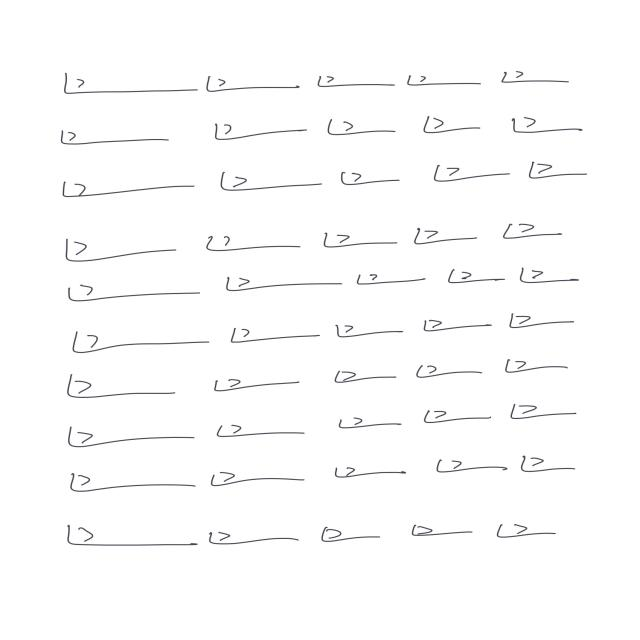Command: (53, 60, 196, 107), (64, 318, 208, 361), (48, 516, 198, 553), (36, 170, 200, 202), (58, 367, 190, 405), (42, 118, 180, 153), (62, 274, 202, 308), (47, 228, 180, 262), (221, 312, 325, 352), (190, 223, 304, 257), (206, 164, 331, 195), (61, 466, 198, 493), (52, 424, 198, 448), (203, 520, 305, 554), (203, 70, 309, 102), (212, 268, 333, 296), (203, 114, 308, 146), (406, 211, 491, 250), (213, 414, 307, 446), (426, 444, 512, 478), (313, 222, 404, 254), (410, 102, 489, 138), (201, 464, 305, 491), (321, 452, 411, 483), (395, 61, 490, 90), (495, 111, 597, 138), (319, 108, 403, 140), (329, 406, 408, 440), (499, 212, 572, 248), (416, 313, 506, 342), (507, 399, 593, 428), (314, 63, 402, 90), (494, 512, 562, 546), (318, 517, 382, 553), (521, 152, 588, 186), (419, 401, 491, 432), (428, 158, 516, 183), (444, 257, 505, 291), (495, 64, 581, 88), (509, 264, 588, 290), (352, 264, 431, 290), (520, 446, 572, 485), (406, 356, 489, 380), (334, 165, 411, 190), (493, 354, 577, 375), (325, 364, 407, 385), (202, 376, 300, 393), (329, 317, 404, 339), (509, 311, 575, 331), (410, 519, 469, 538)
